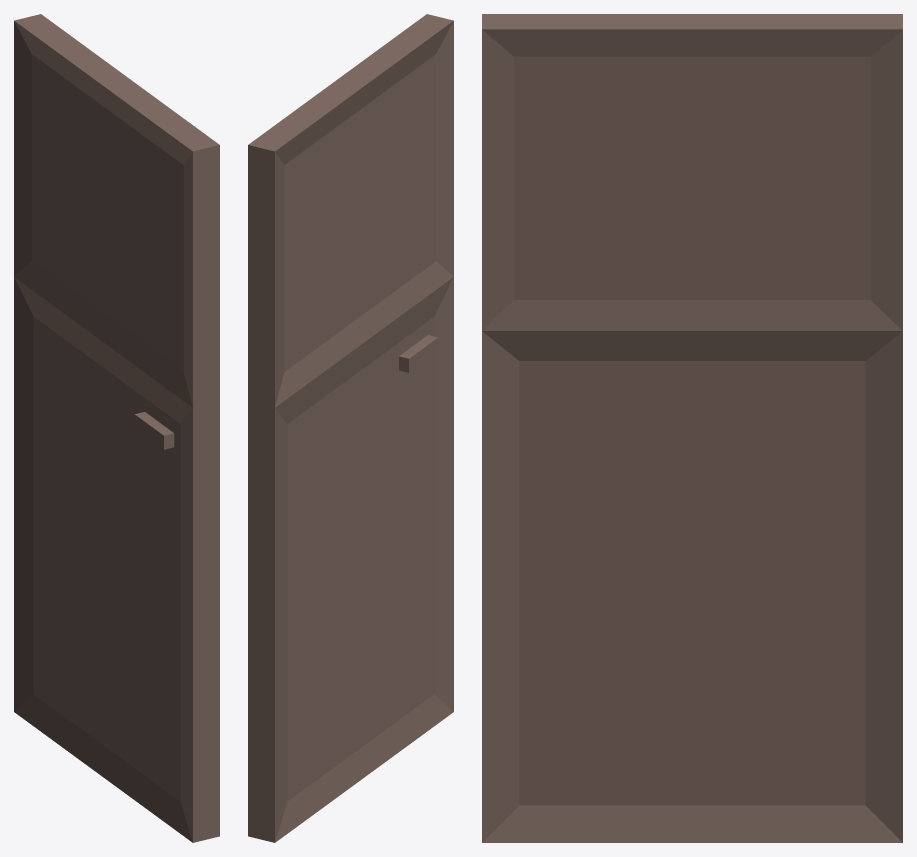
The model's file is door.fbx.
The picture shows the model from 3 angles, left to right: view 1: azimuth 30°, elevation 25°; view 2: azimuth 150°, elevation 25°; view 3: azimuth 270°, elevation 25°; orthographic projection. The views are drawn at different scales.
Visible parts, largest first — view 1: Cube; view 2: Cube; view 3: Cube.
Part boxes in pixels (x1=…): Cube: x1=14, y1=14, x2=219, y2=842; Cube: x1=248, y1=14, x2=453, y2=842; Cube: x1=482, y1=14, x2=902, y2=842.
Bounding box in the file's own units: 30.66 × 600 × 282.
